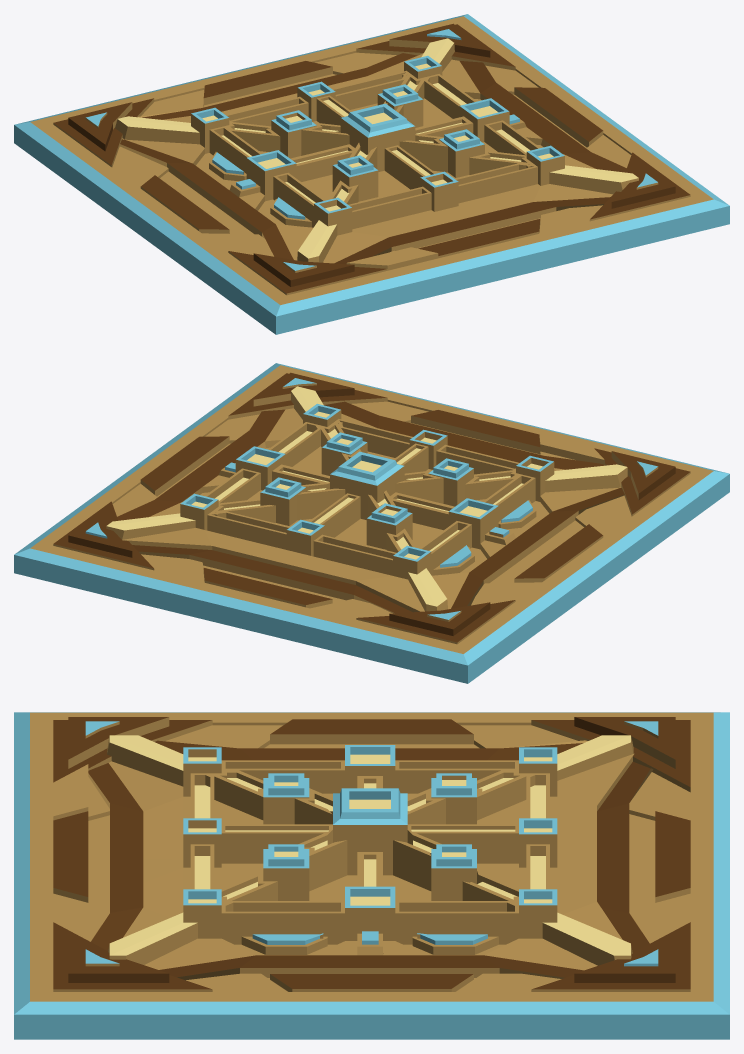
The model's file is Plateau.fbx.
3 renders of one model, top to bottom at view 1: azimuth 30°, elevation 25°; view 2: azimuth 150°, elevation 25°; view 3: azimuth 270°, elevation 25°, orthographic. The views are drawn at different scales.
Parts seen in each view (by area): view 1: Jeu; view 2: Jeu; view 3: Jeu.
Part boxes in pixels (x1,y1,x2,y2): Jeu: (14,14,729,334); Jeu: (14,363,729,683); Jeu: (14,712,729,1039).
Bounding box in the file's own units: 524 × 74.24 × 524.
